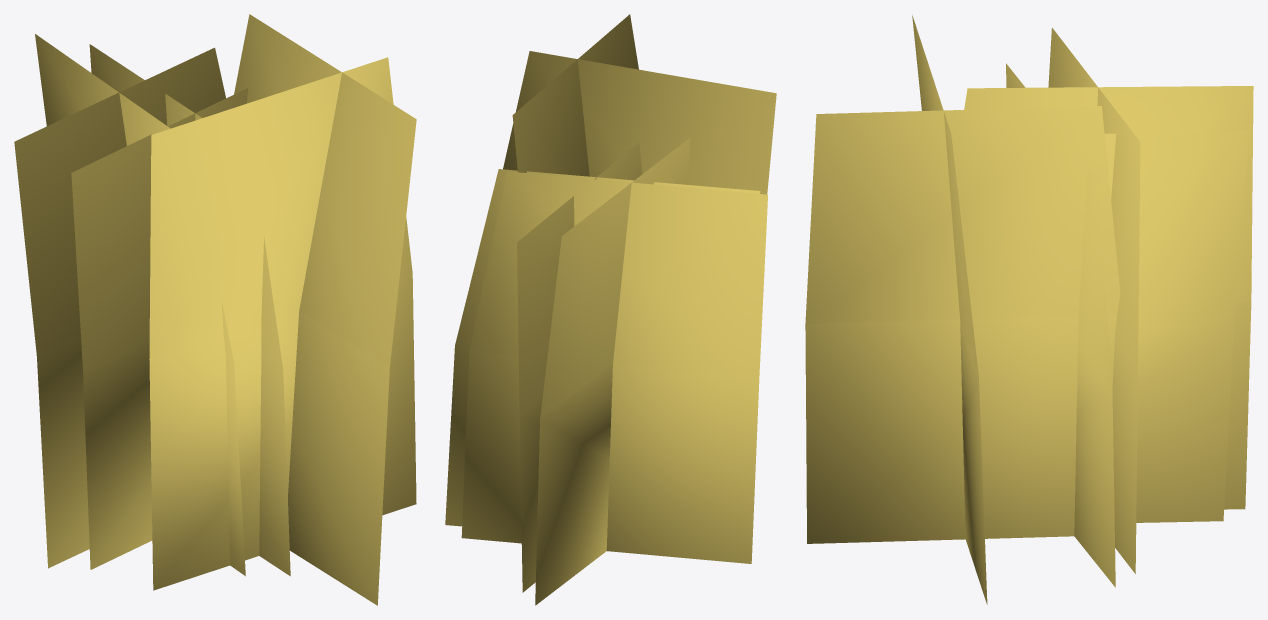
File: flowers_2.glb
The picture shows the model from 3 angles, left to right: view 1: azimuth 30°, elevation 25°; view 2: azimuth 150°, elevation 25°; view 3: azimuth 270°, elevation 25°; orthographic projection. The views are drawn at different scales.
Parts seen in each view (by area): view 1: flowers_2; view 2: flowers_2; view 3: flowers_2.
Boxes of the visible parts, box(x1,y1,x2,y2) form: flowers_2: box(14, 14, 416, 605); flowers_2: box(445, 14, 776, 605); flowers_2: box(805, 15, 1253, 604).
Size of the model in its own units: 0.7653 by 0.9378 by 0.8458.
